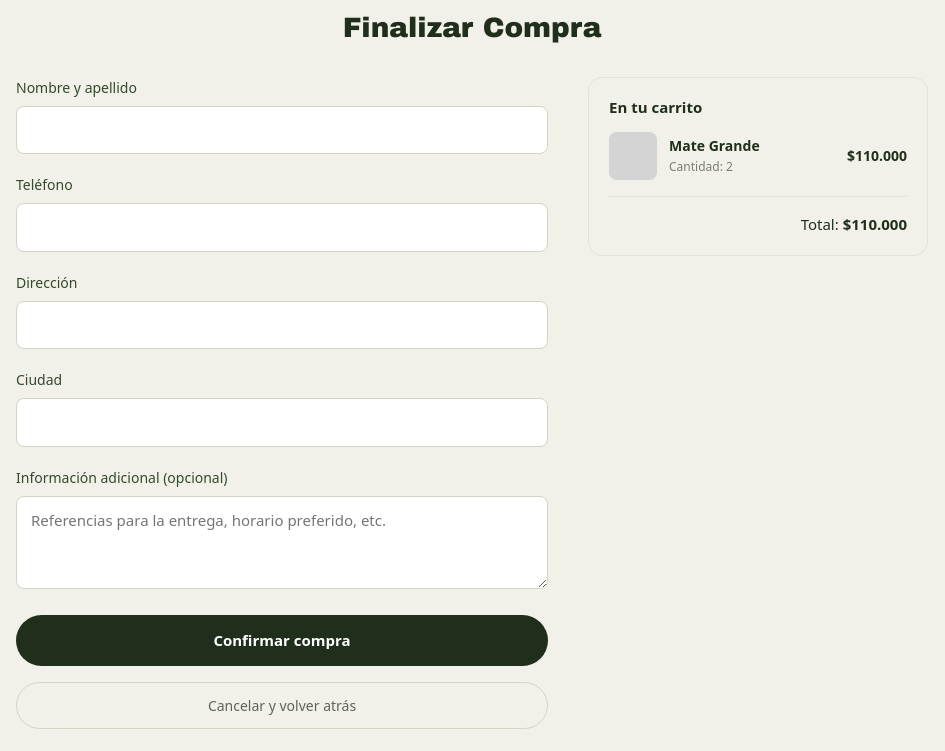
Test case: Checkout › no crea la orden si faltan datos obligatorios
Click the button "Confirmar compra".
click(282, 640)  # box [16,615,548,666]
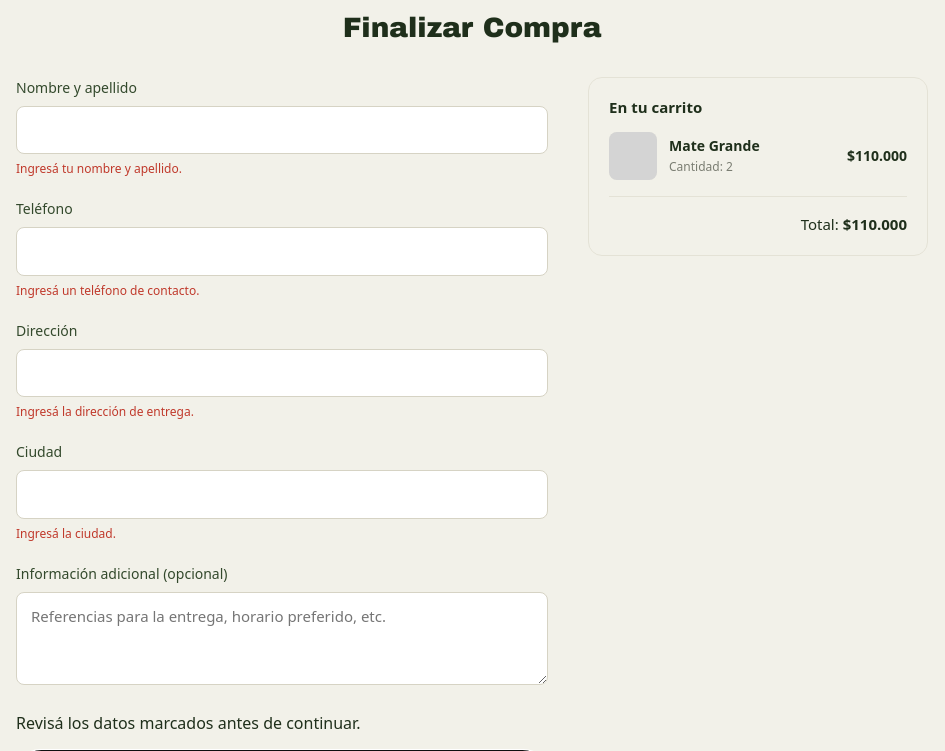
Expected: the text "Revisá los datos marcados antes de continuar." is shown, [16,712,360,734]
Expected: the text "Ingresá tu nombre y apellido." is shown, [16,160,182,177]
